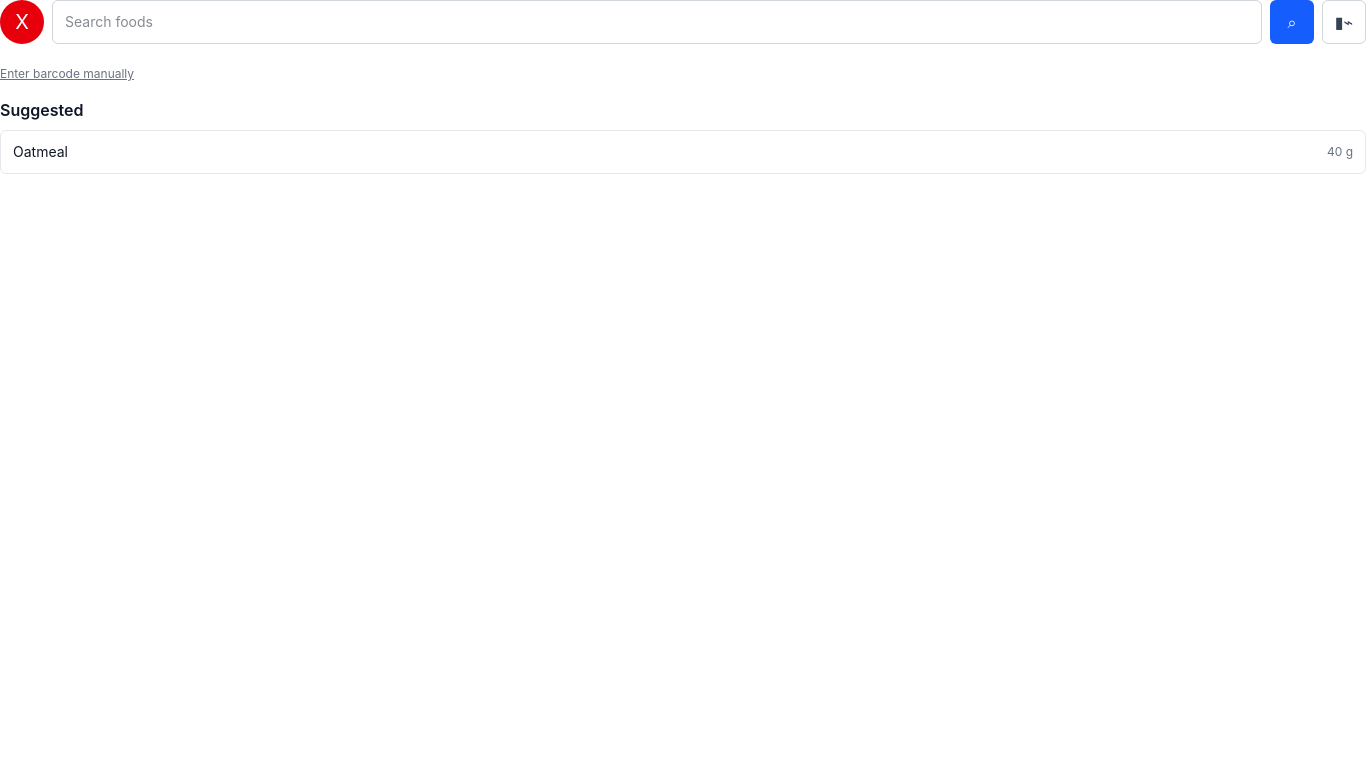
AddEntry › T10: suggestion pick defaults to its mode qty/unit (mode beats row serving)
Click the text "Oatmeal": [40, 152] box [13,142,68,162]
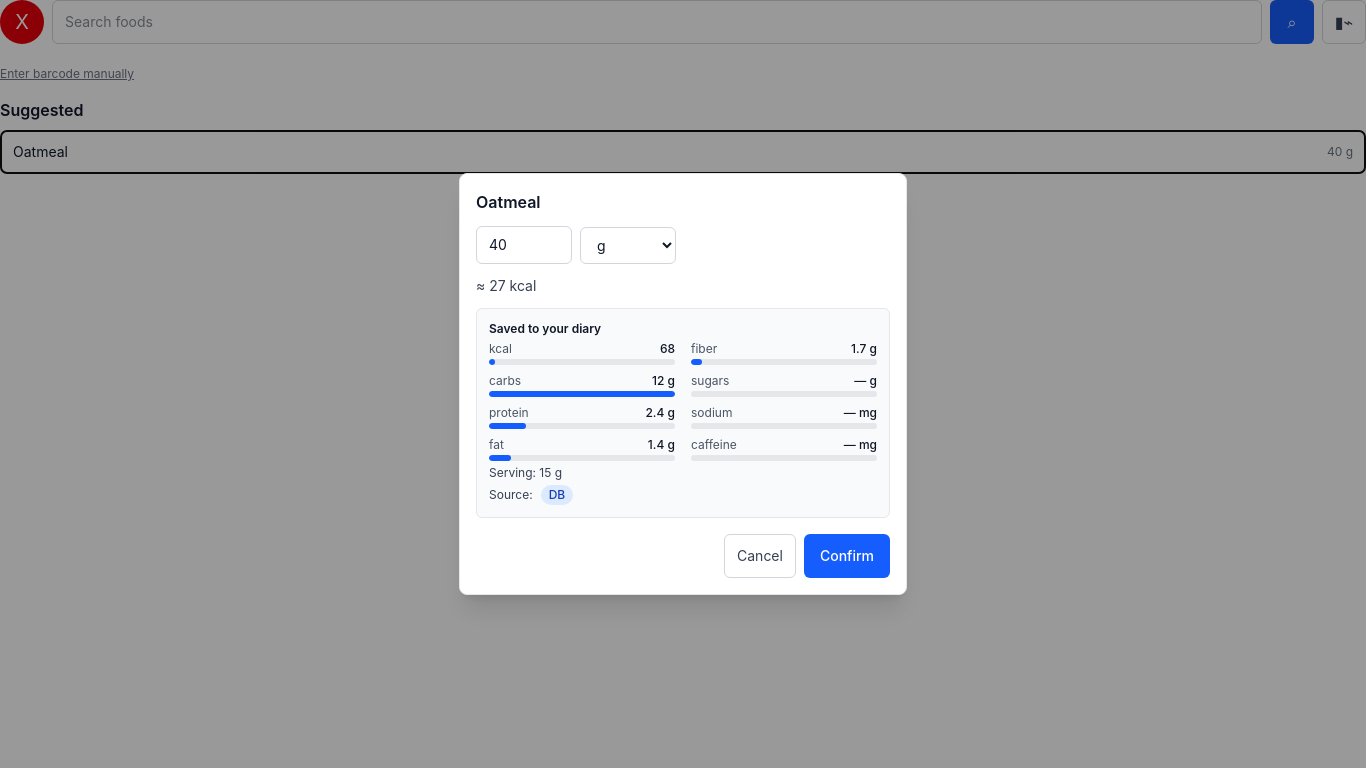
Now the dialog named "Confirm Oatmeal" is shown, box [459,173,907,595]
Now the number field named "Quantity" holds "40", box [476,226,572,264]
Now the dropdown named "Unit" shows "g", box [580,226,676,264]
